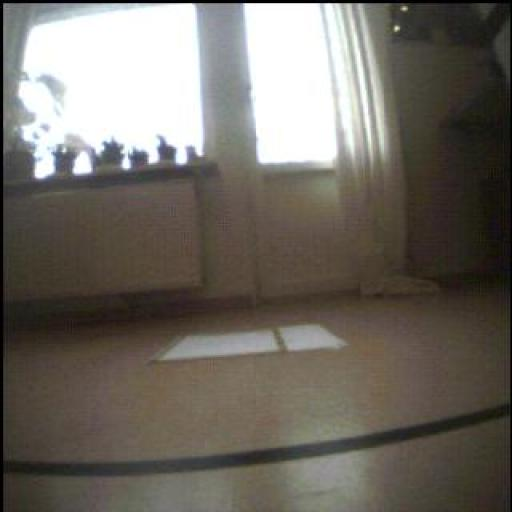Pad: (149, 319, 341, 367)
